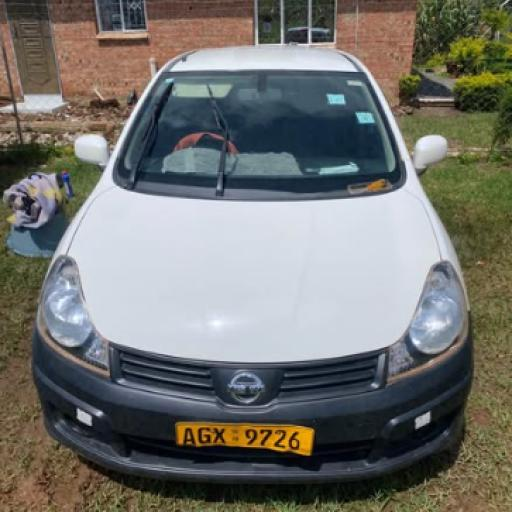number-plates: (174, 422, 317, 458)
